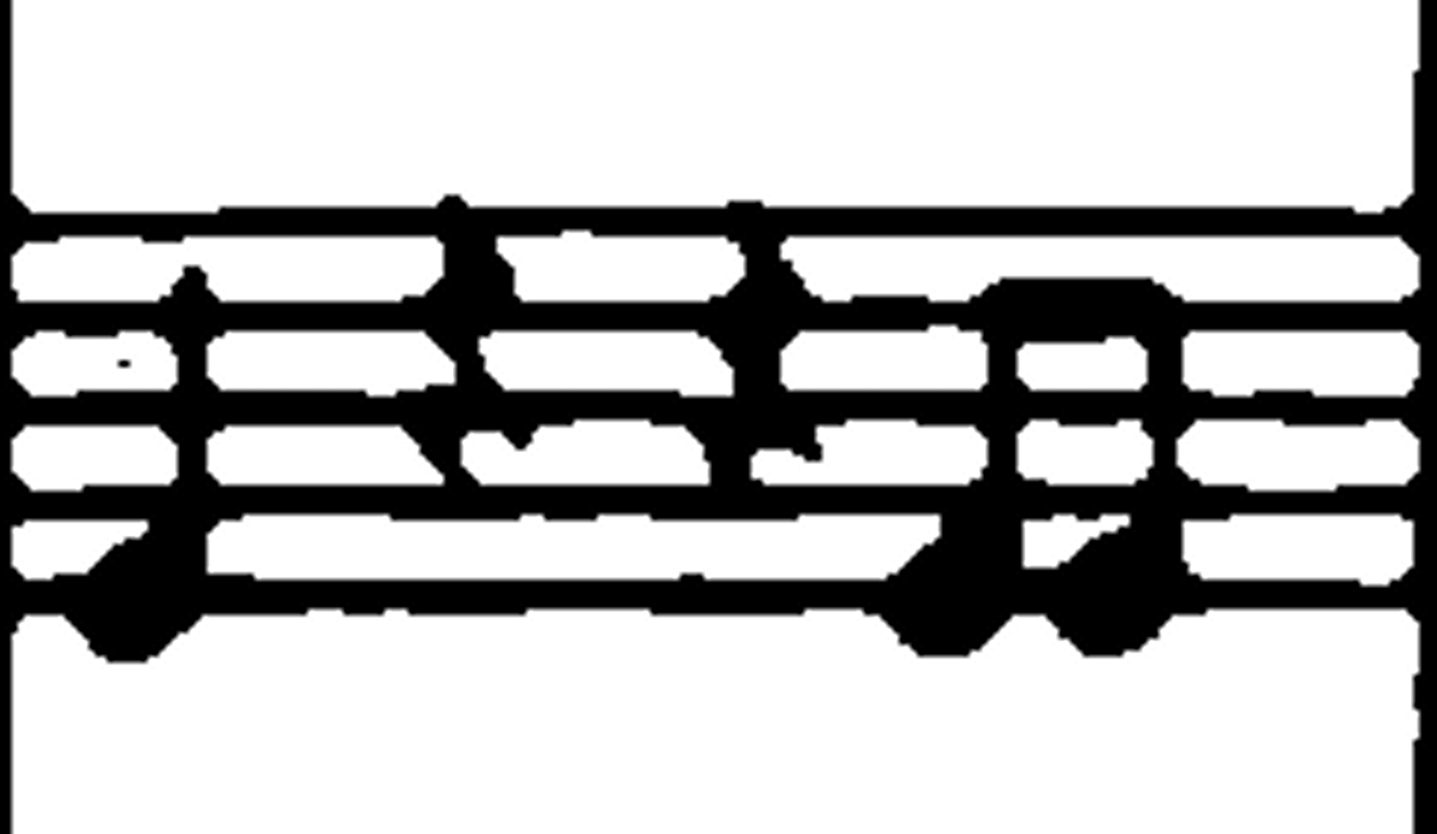noteheadBlackInSpace: (1149, 341, 1181, 381), (710, 457, 749, 486), (1149, 351, 1181, 385), (172, 267, 205, 298), (746, 248, 779, 276), (987, 434, 1015, 459), (0, 606, 18, 635)
noteheadBlackOnLine: (436, 195, 467, 218), (1022, 480, 1048, 497)
rest8th: (418, 435, 461, 508)
restHBar: (0, 569, 1060, 622), (403, 282, 1437, 334), (18, 477, 1096, 524), (270, 384, 1344, 430), (130, 573, 1203, 619), (0, 384, 1059, 430), (270, 202, 1347, 241), (696, 294, 1437, 341), (952, 575, 1425, 621)
